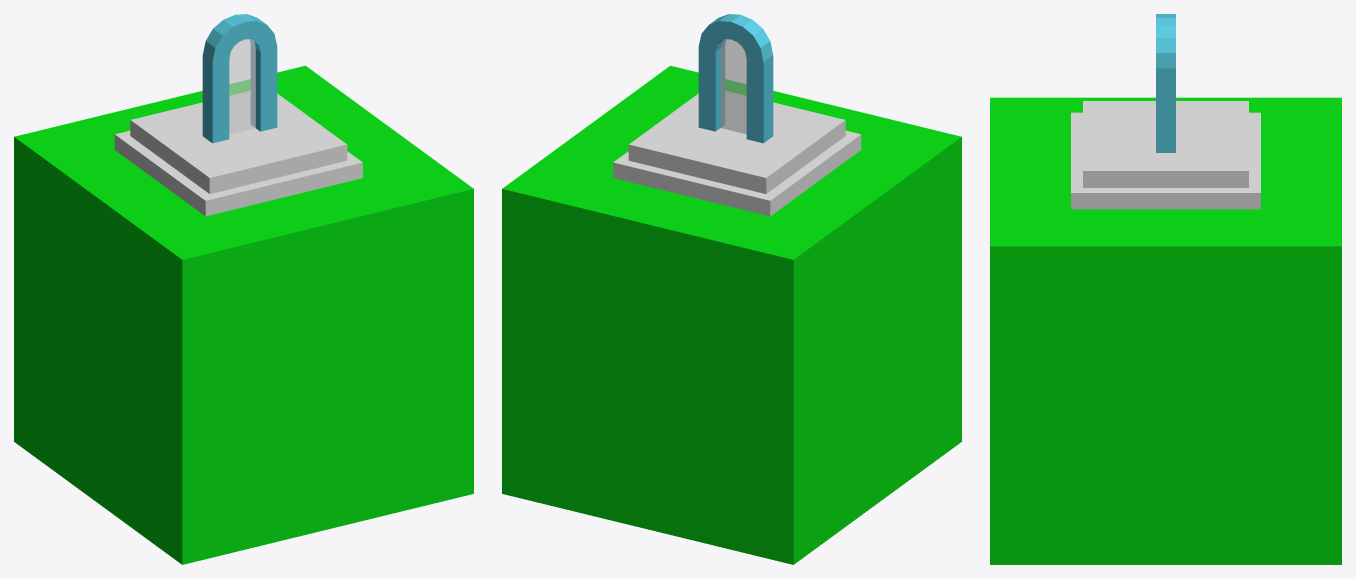
File: portal.gltf
The picture shows the model from 3 angles, left to right: view 1: azimuth 30°, elevation 25°; view 2: azimuth 150°, elevation 25°; view 3: azimuth 270°, elevation 25°; orthographic projection. The views are drawn at different scales.
Visible parts, largest first — view 1: Land, Cube.018, Cube.021, Plane.003; view 2: Land, Cube.018, Cube.021, Plane.003; view 3: Land, Cube.018, Cube.021.
Part boxes in pixels (bbox=[...]): Land: bbox=[14, 65, 473, 564]; Cube.018: bbox=[114, 91, 362, 216]; Cube.021: bbox=[202, 14, 277, 143]; Plane.003: bbox=[229, 39, 255, 134]; Land: bbox=[502, 65, 961, 564]; Cube.018: bbox=[613, 91, 861, 216]; Cube.021: bbox=[698, 14, 773, 143]; Plane.003: bbox=[720, 39, 746, 134]; Land: bbox=[990, 97, 1341, 564]; Cube.018: bbox=[1071, 101, 1260, 209]; Cube.021: bbox=[1156, 14, 1175, 152].
Size of the model in its own units: 2 by 2.95 by 2.
